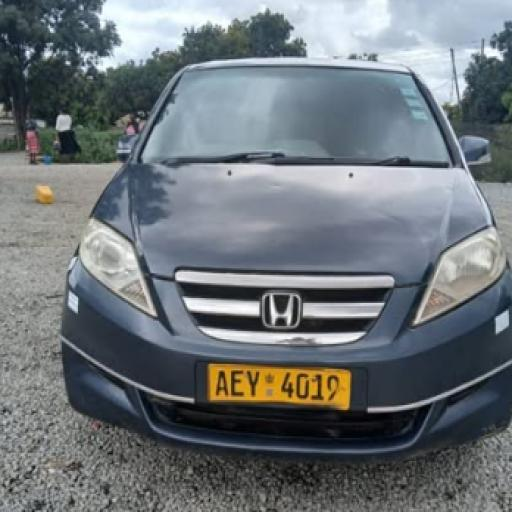number-plates: (210, 360, 346, 412)
